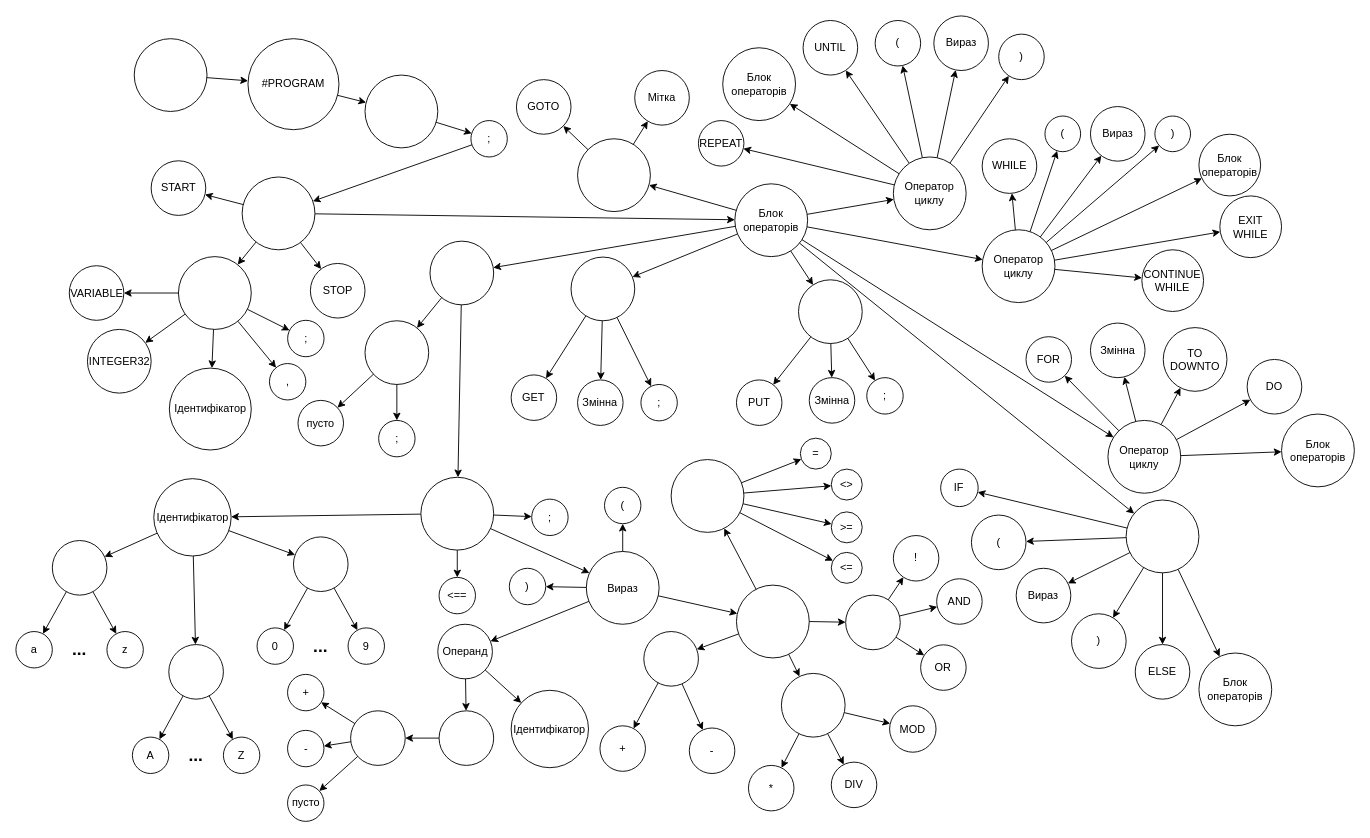
This 1370x838 diagram has some shape labels left out. The centre of each missing label's shape, as x and y in pixels:
Адитивна операція: the point at 670,658
Блок змінних: the point at 214,292
Блок коду: the point at 278,213
Велика буква: the point at 195,671
Знак: the point at 377,737
Константа: the point at 466,737
Логічна операція: the point at 872,622
Мала буква: the point at 79,567
Мультиплі кативна операція: the point at 813,704
Оператор вводу: the point at 602,288
Оператор виводу: the point at 830,311
Оператор переходу: the point at 613,175
Оператор умови: the point at 1162,536
Операції: the point at 772,621
Операції порівняння: the point at 707,495
Основна програма: the point at 170,74
Порожній оператор: the point at 396,352
Присвоєння: the point at 457,513
Простий оператор: the point at 461,272
Цифра: the point at 320,564
Ім'я програми: the point at 401,111
